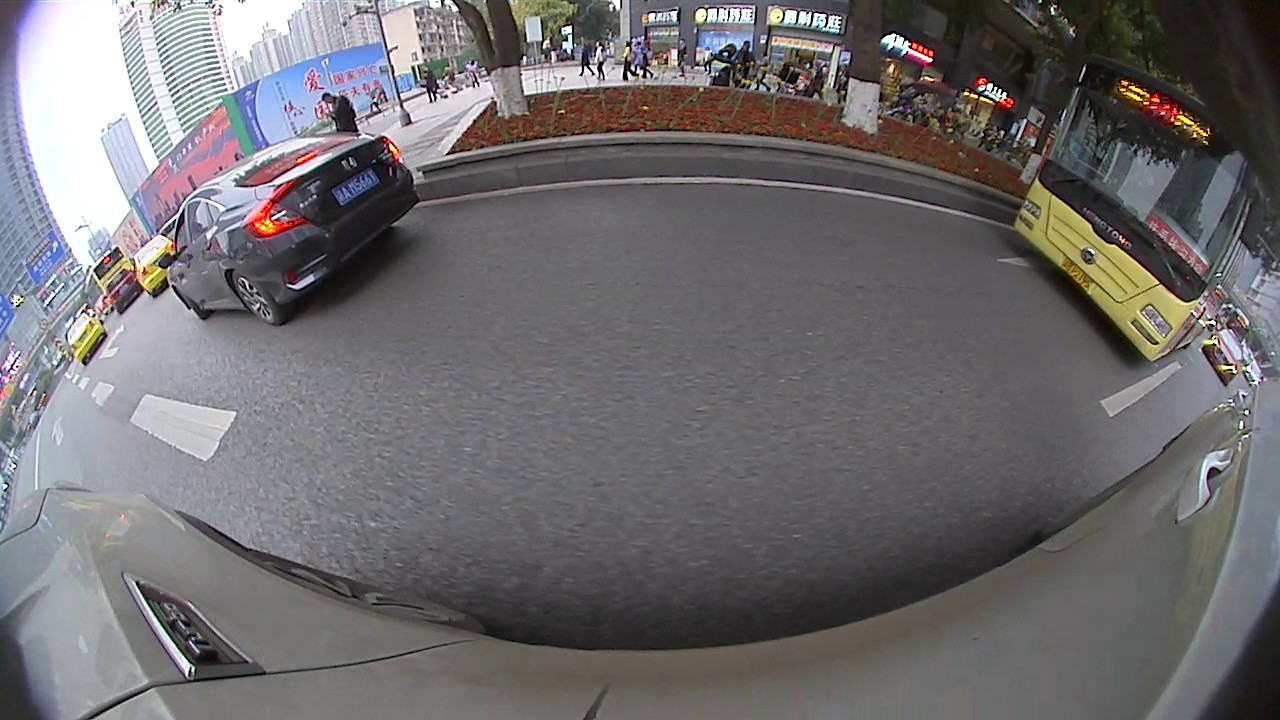bus: (1008, 39, 1261, 369)
car: (156, 125, 424, 328), (131, 227, 179, 301), (1205, 321, 1250, 389), (59, 312, 109, 365)
person: (317, 86, 358, 138)
rear: (226, 270, 290, 327)
